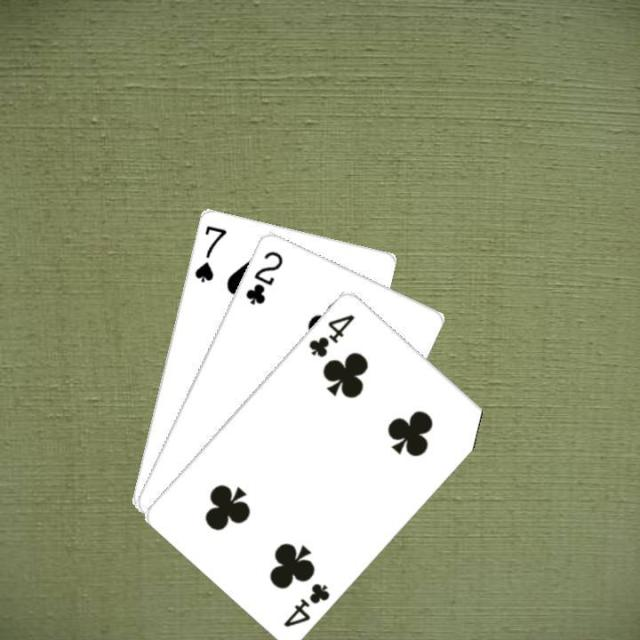2C: (241, 246, 284, 307)
4C: (279, 578, 332, 628), (304, 309, 356, 359)
7S: (190, 220, 228, 284)
